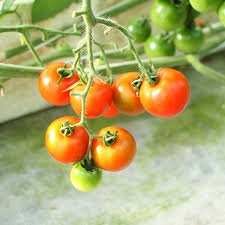stems: (130, 48, 154, 82), (60, 54, 79, 75), (63, 121, 81, 133), (91, 133, 113, 142)
tomato: (140, 67, 191, 118), (90, 125, 137, 173), (44, 116, 89, 163), (38, 62, 80, 106), (70, 75, 112, 118), (112, 71, 149, 115), (70, 159, 103, 192)
